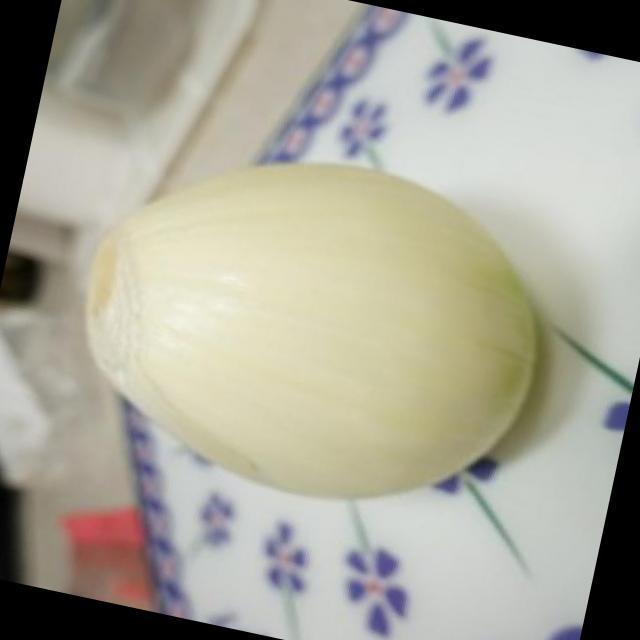Onion: (84, 164, 541, 498)
